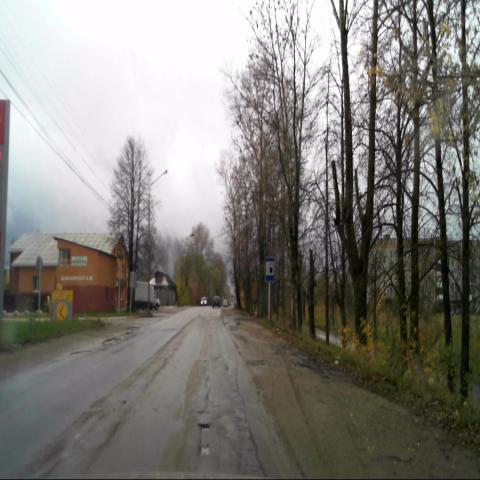7_3: (264, 257, 274, 282)
